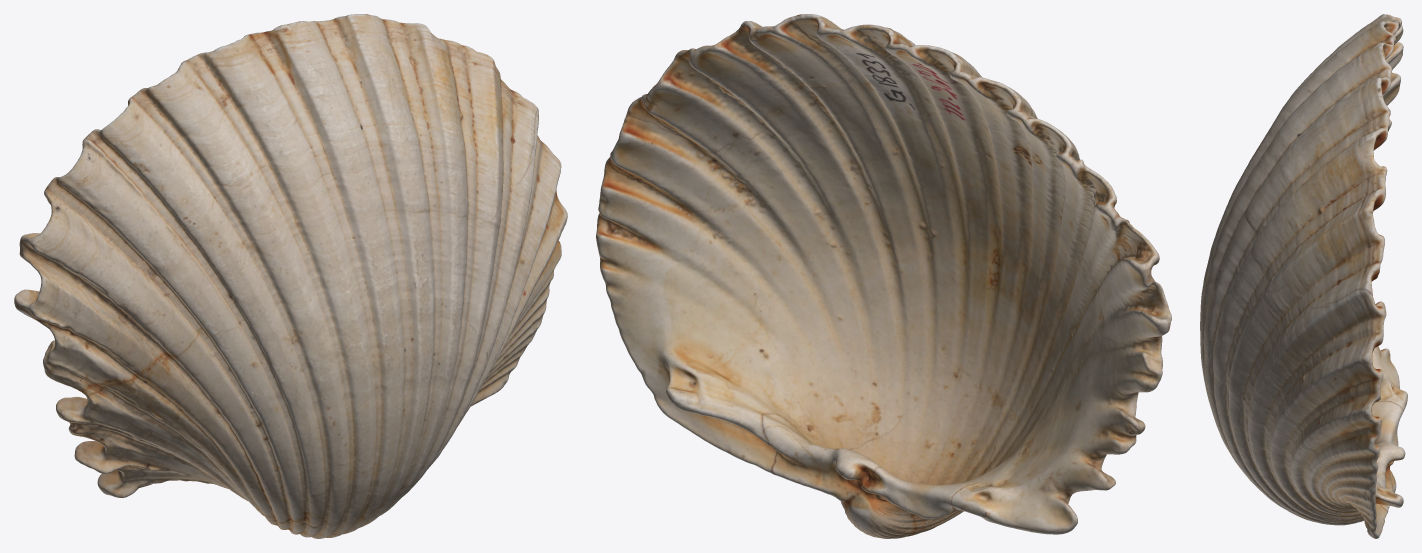
The model's file is EWS0014076.glb.
The picture shows the model from 3 angles, left to right: view 1: azimuth 30°, elevation 25°; view 2: azimuth 150°, elevation 25°; view 3: azimuth 270°, elevation 25°; orthographic projection. The views are drawn at different scales.
Parts seen in each view (by area): view 1: input; view 2: input; view 3: input.
Part boxes in pixels (x1,y1,x2,y2): input: [14, 14, 567, 538]; input: [596, 14, 1171, 538]; input: [1200, 14, 1407, 538].
Size of the model in its own units: 0.0674 by 0.0582 by 0.0233.
1 material, 1 textured.
